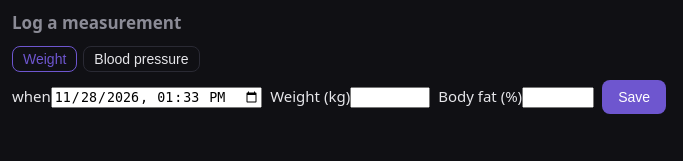
Test: ManualEntry › saves a weigh-in with optional body fat and reloads
In the number field labelled "Weight (kg)": (390, 98) [350,87,430,108], type "82.5"
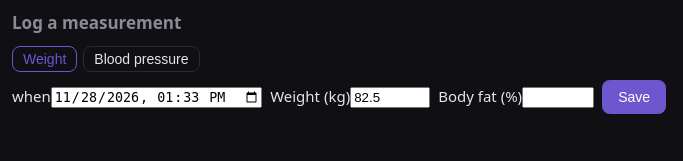
In the number field labelled "Body fat (%)": (558, 98) [522,87,594,108], type "18.4"
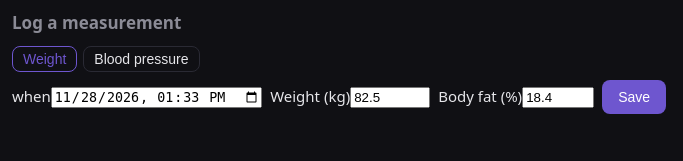
Click the button "Save": (634, 96) [602,80,666,114]
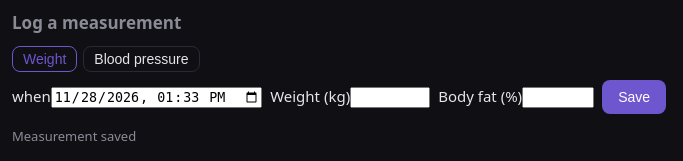
Expected: the text "Measurement saved" is shown, [12,126,136,144]
Expected: the number field labelled "Weight (kg)" is empty, [350,87,430,108]
